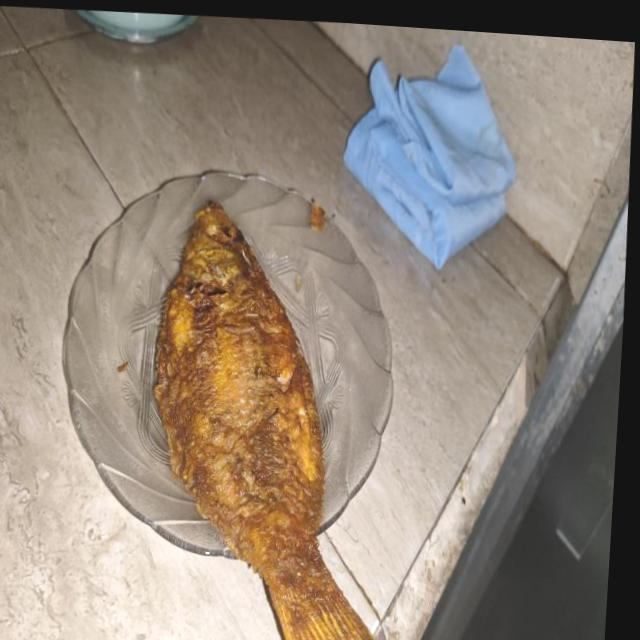ikan_mujair: (154, 201, 373, 640)
